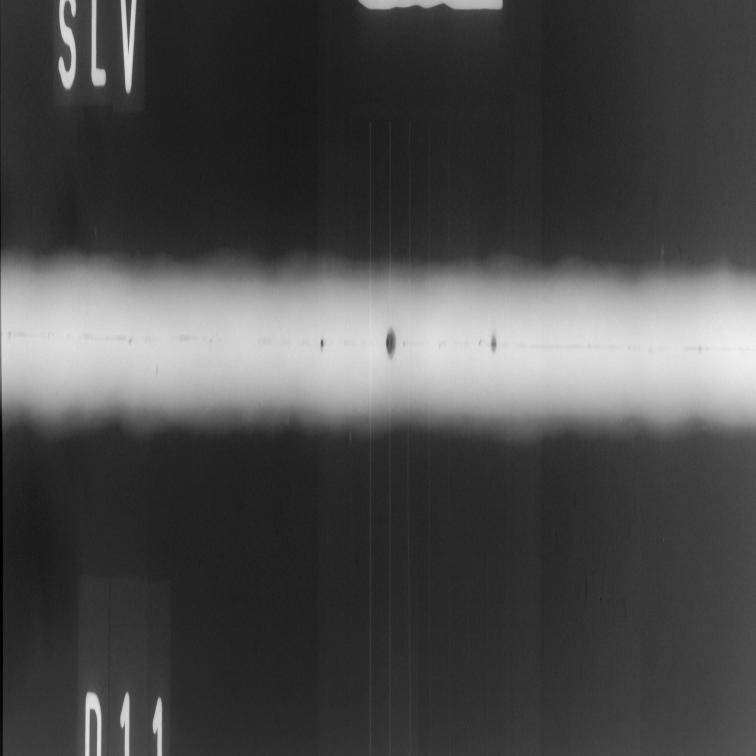FP: (624, 320, 754, 380), (513, 320, 619, 372), (342, 313, 430, 365), (435, 315, 504, 376), (1, 319, 123, 349), (252, 324, 314, 368), (143, 320, 205, 350), (318, 326, 326, 359), (208, 327, 217, 351)
PO: (125, 321, 135, 358), (154, 358, 162, 388)
